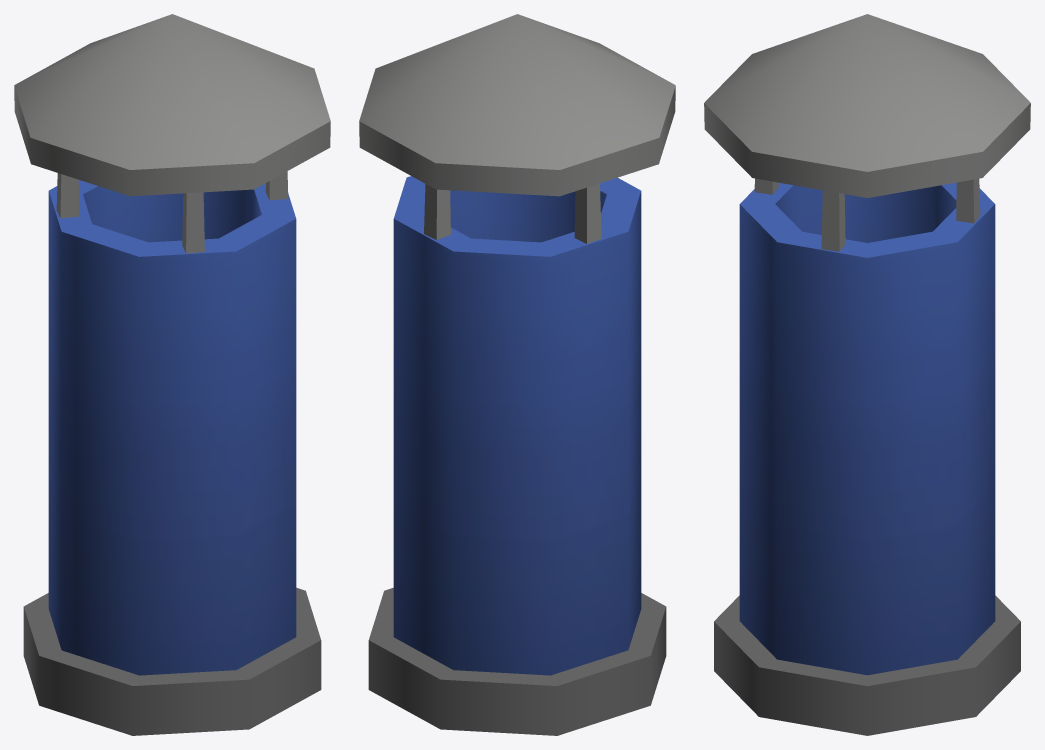
File: Chimney_1_D_1.fbx
3 renders of one model, left to right at view 1: azimuth 30°, elevation 25°; view 2: azimuth 150°, elevation 25°; view 3: azimuth 270°, elevation 25°, orthographic.
Visible parts, largest first — view 1: Chimney_1_D_1; view 2: Chimney_1_D_1; view 3: Chimney_1_D_1.
Boxes of the visible parts, x1,y1,x2,y2 form: Chimney_1_D_1: (14, 14, 330, 735); Chimney_1_D_1: (359, 14, 675, 735); Chimney_1_D_1: (704, 14, 1030, 735).
Size of the model in its own units: 65.76 by 146 by 65.76.
